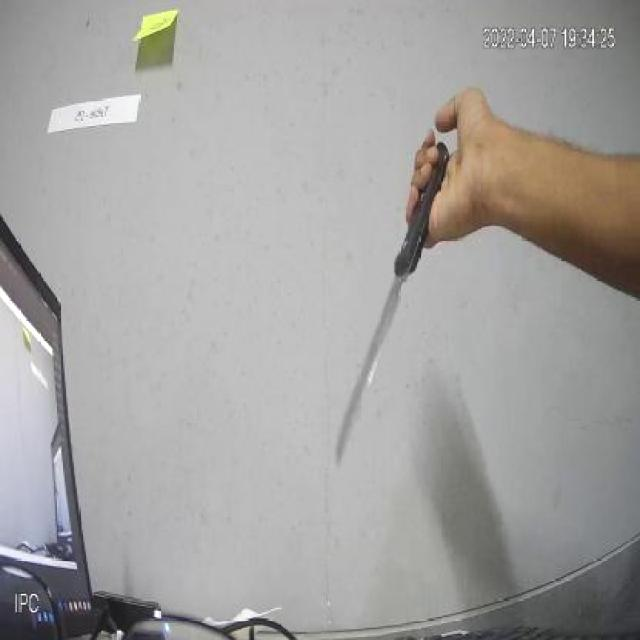knife: (342, 137, 448, 458)
